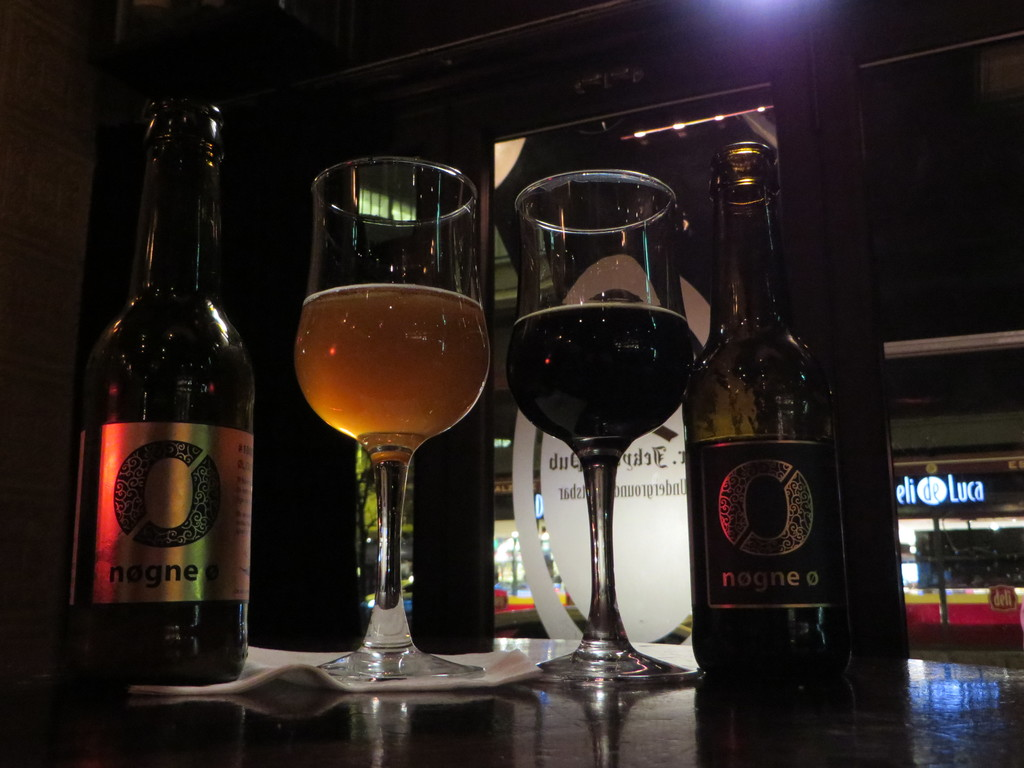Beer: (294, 283, 488, 448)
